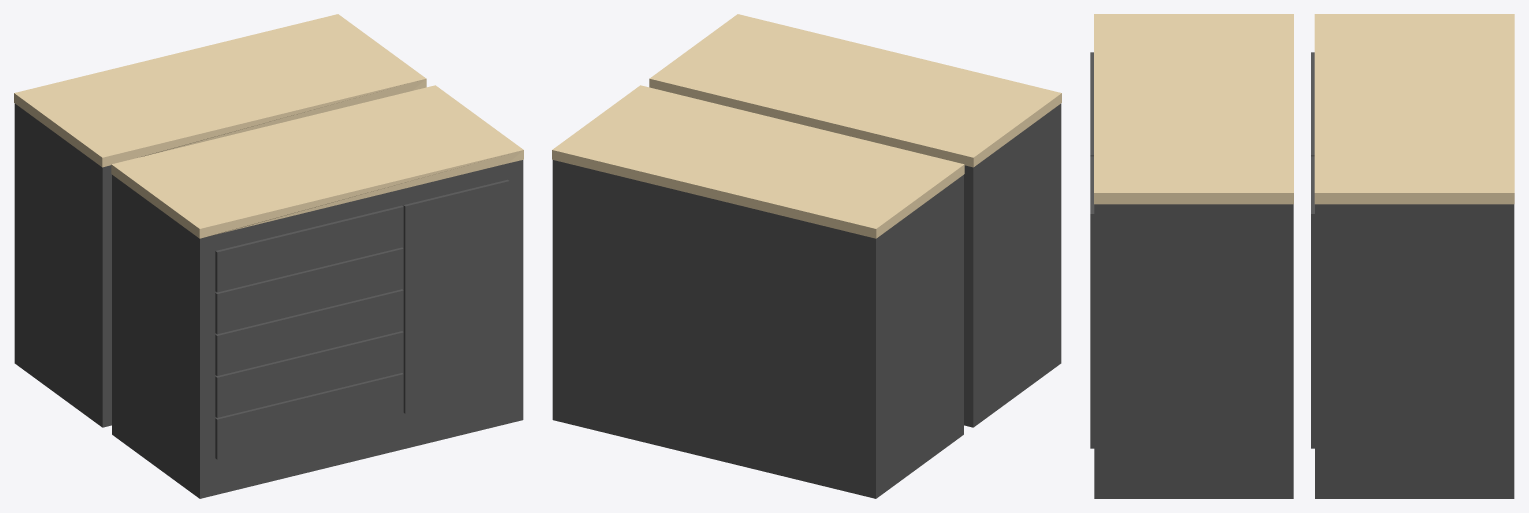
3 renders of one model, left to right at view 1: azimuth 30°, elevation 25°; view 2: azimuth 150°, elevation 25°; view 3: azimuth 270°, elevation 25°, orthographic. The views are drawn at different scales.
Visible parts, largest first — view 1: imagetostl_mesh4, imagetostl_mesh44, imagetostl_mesh9, imagetostl_mesh45, imagetostl_mesh2, imagetostl_mesh35, imagetostl_mesh25, imagetostl_mesh20, imagetostl_mesh30, imagetostl_mesh10, imagetostl_mesh15, imagetostl_mesh7 (+5 smaller); view 2: imagetostl_mesh80, imagetostl_mesh44, imagetostl_mesh4, imagetostl_mesh2, imagetostl_mesh45, imagetostl_mesh52, imagetostl_mesh5, imagetostl_mesh83, imagetostl_mesh49, imagetostl_mesh6; view 3: imagetostl_mesh81, imagetostl_mesh82, imagetostl_mesh44, imagetostl_mesh4, imagetostl_mesh43, imagetostl_mesh8, imagetostl_mesh38, imagetostl_mesh78.
Boxes of the visible parts, x1,y1,x2,y2 form: imagetostl_mesh4: (112, 85, 523, 228); imagetostl_mesh44: (14, 14, 425, 157); imagetostl_mesh9: (200, 160, 523, 498); imagetostl_mesh45: (14, 103, 102, 427); imagetostl_mesh2: (112, 175, 199, 498); imagetostl_mesh35: (405, 181, 509, 413); imagetostl_mesh25: (217, 332, 403, 417); imagetostl_mesh20: (217, 290, 403, 375); imagetostl_mesh30: (217, 374, 403, 459); imagetostl_mesh10: (217, 207, 403, 292); imagetostl_mesh15: (217, 248, 403, 334); imagetostl_mesh7: (199, 150, 523, 238); imagetostl_mesh80: (552, 160, 875, 498); imagetostl_mesh44: (552, 85, 963, 228); imagetostl_mesh4: (650, 14, 1061, 157); imagetostl_mesh2: (973, 103, 1061, 427); imagetostl_mesh45: (876, 175, 963, 498); imagetostl_mesh52: (552, 150, 876, 238); imagetostl_mesh5: (649, 78, 973, 167); imagetostl_mesh83: (964, 165, 973, 427); imagetostl_mesh49: (876, 164, 964, 238); imagetostl_mesh6: (973, 93, 1061, 166); imagetostl_mesh81: (1315, 204, 1514, 498); imagetostl_mesh82: (1094, 204, 1293, 498); imagetostl_mesh44: (1314, 14, 1514, 192); imagetostl_mesh4: (1094, 14, 1293, 192); imagetostl_mesh43: (1314, 193, 1514, 204); imagetostl_mesh8: (1094, 193, 1293, 204); imagetostl_mesh38: (1090, 214, 1094, 448); imagetostl_mesh78: (1311, 214, 1314, 448).
Bounding box in the file's own units: 0.8205 × 0.6535 × 0.8213.
